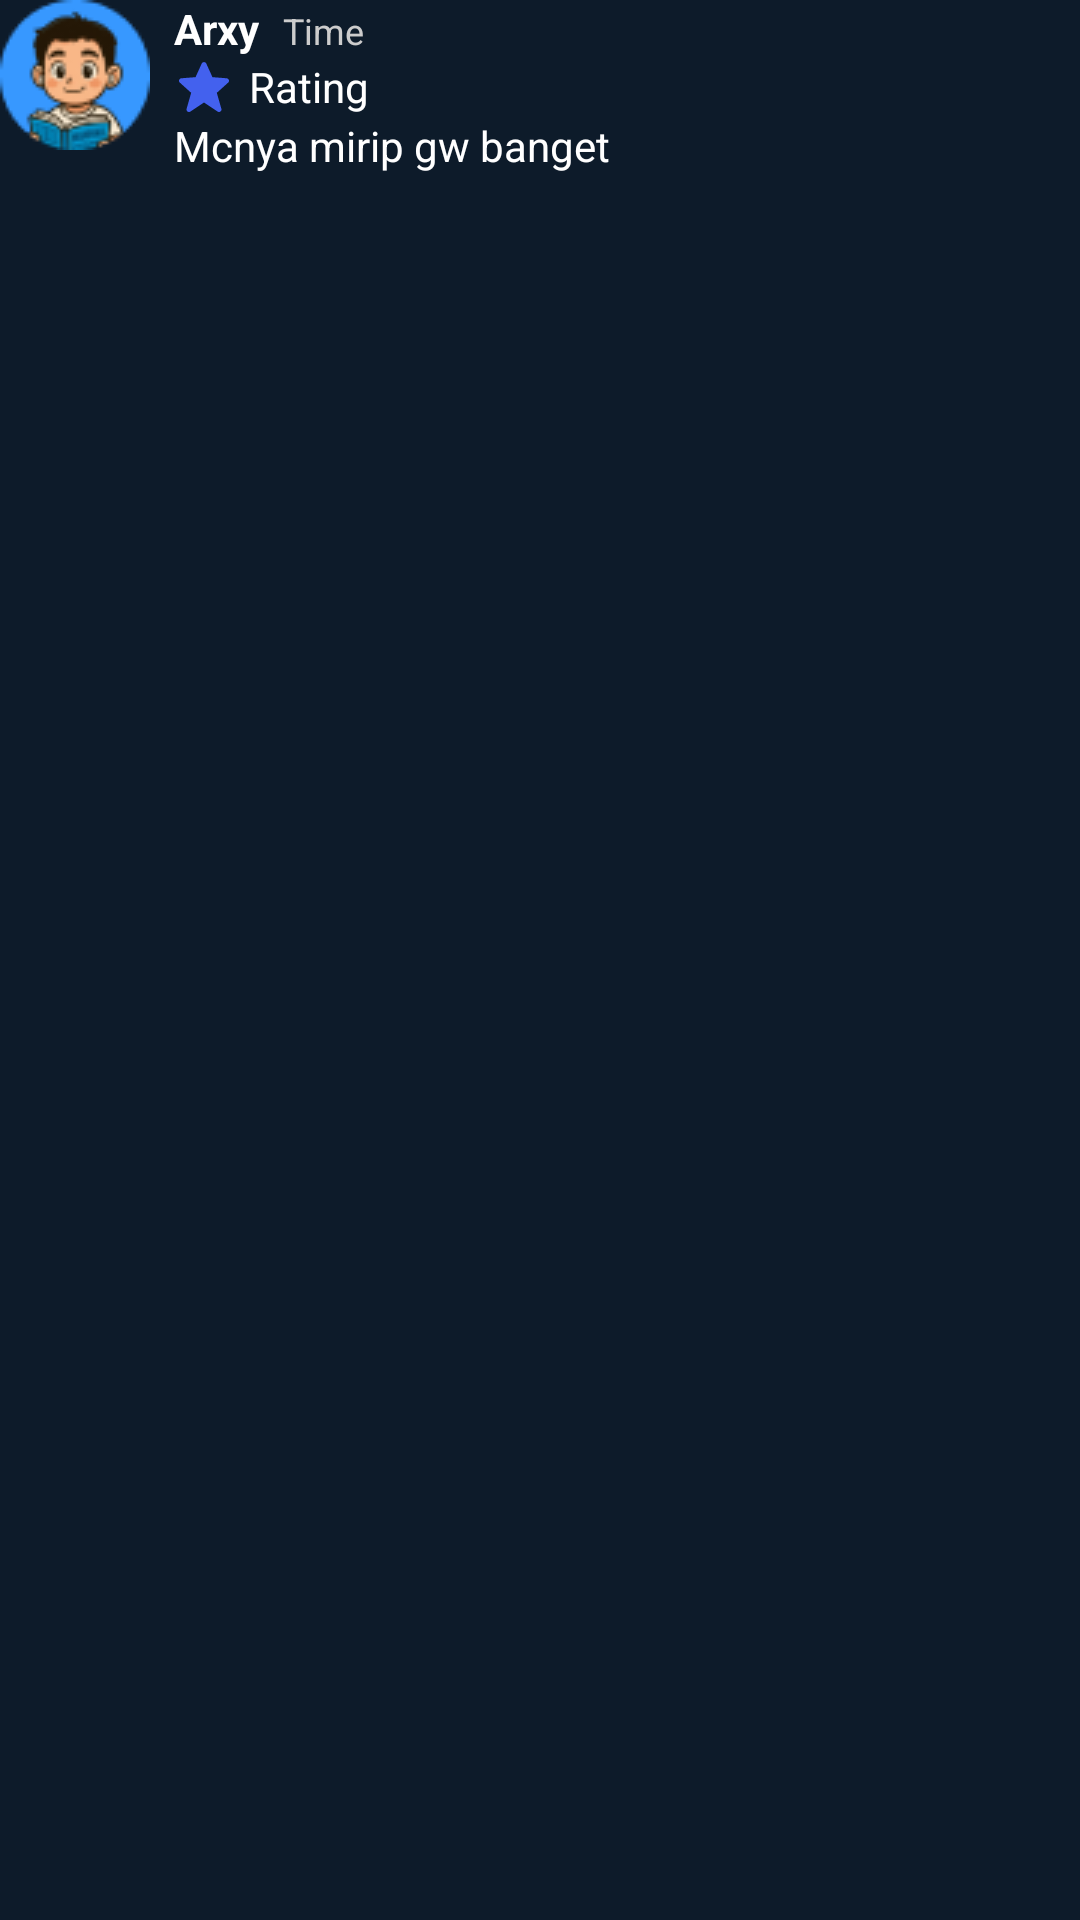

Icons on this 1080px×1920px Android screen, each with the point to tap as (x,y):
profile: (75,75)
star: (204,87)
